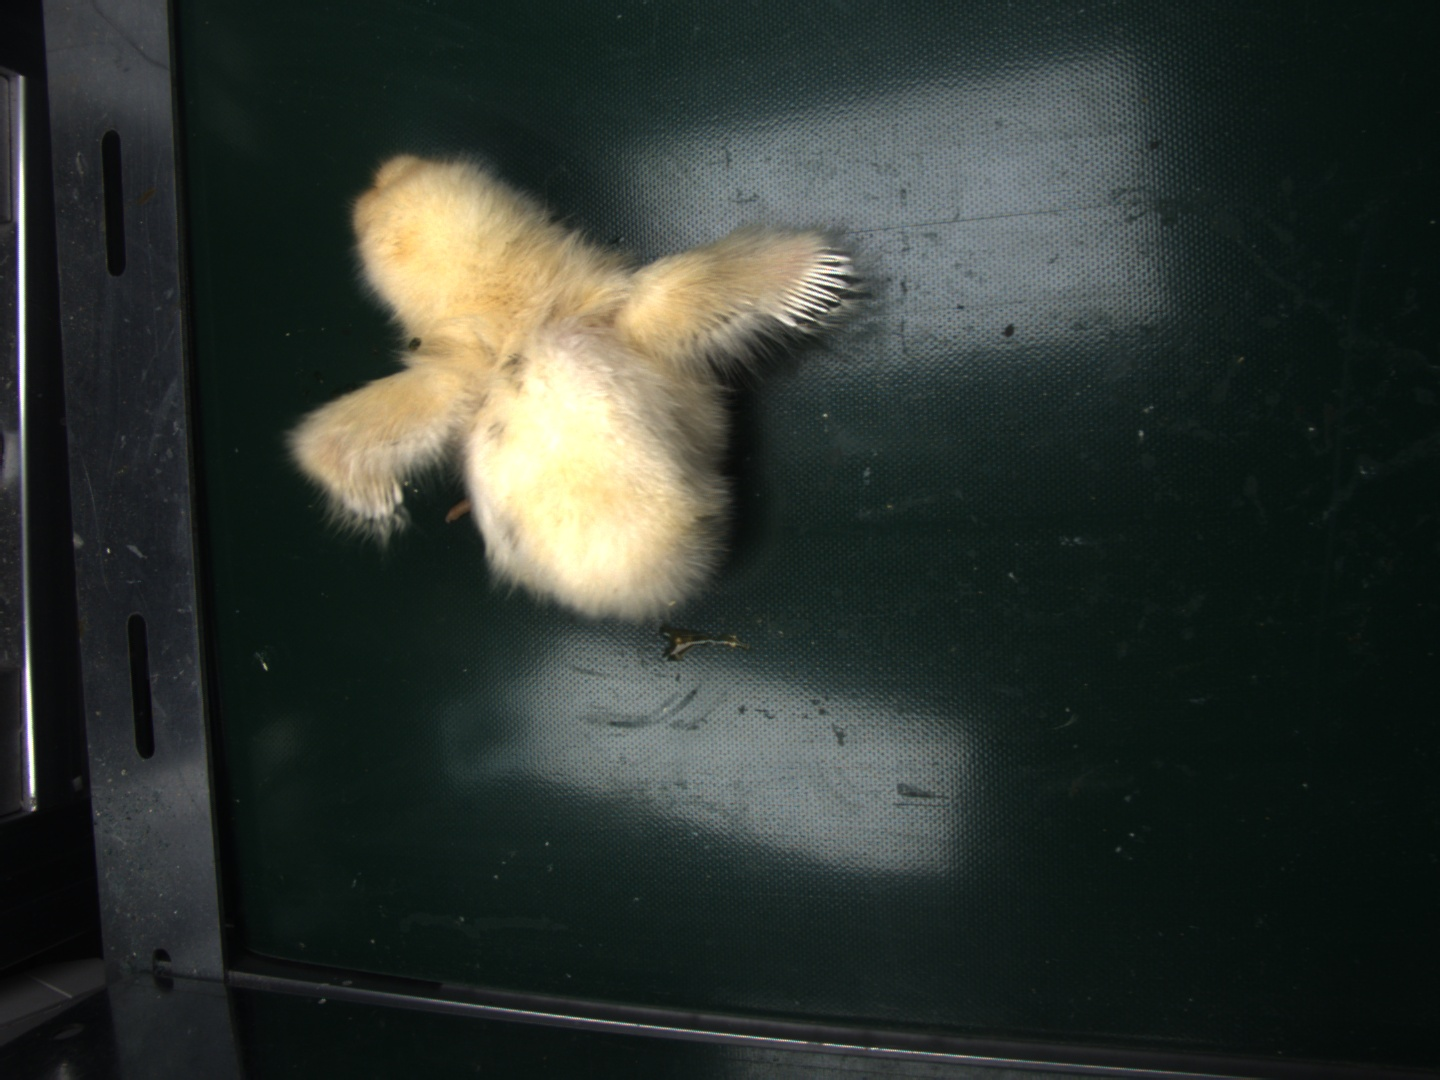male: (779, 251, 847, 328)
